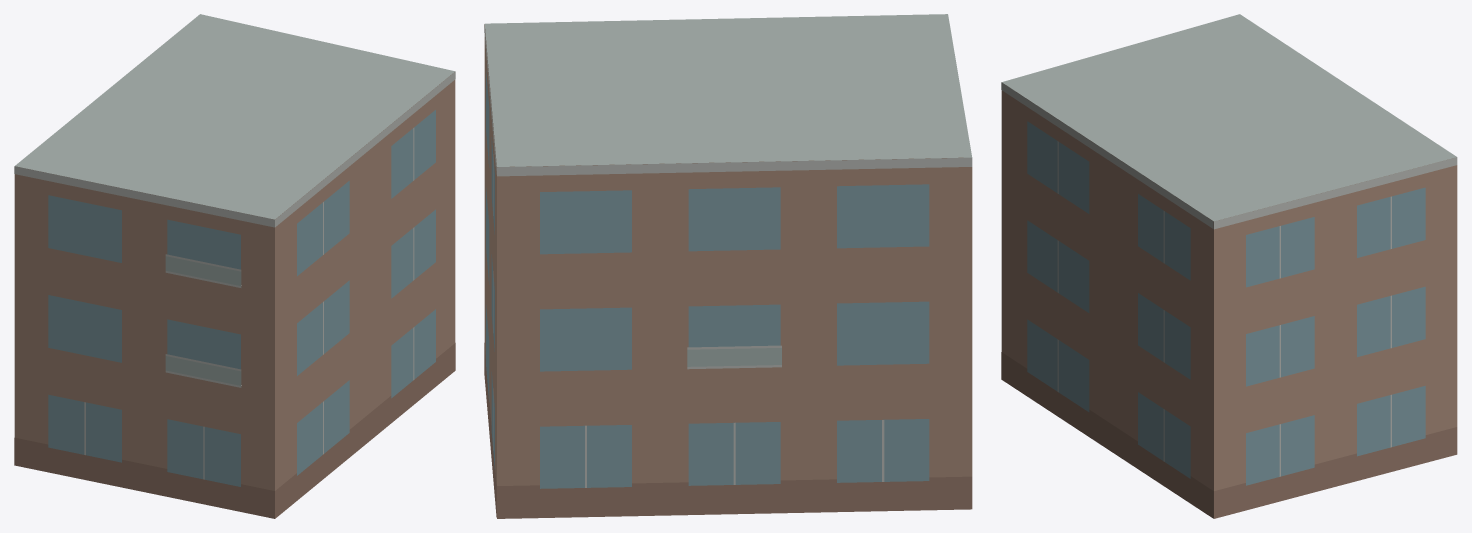
The model's file is survey-upis-32894387.glb.
3 views of the same model, side by side, from view 1: azimuth 30°, elevation 25°; view 2: azimuth 150°, elevation 25°; view 3: azimuth 270°, elevation 25° (orthographic). The views are drawn at different scales.
Parts seen in each view (by area): view 1: survey-upis-32894387.tmp; view 2: survey-upis-32894387.tmp; view 3: survey-upis-32894387.tmp.
Boxes of the visible parts, left/top/right/bottom form: survey-upis-32894387.tmp: left=14, top=14, right=455, bottom=518; survey-upis-32894387.tmp: left=484, top=14, right=972, bottom=518; survey-upis-32894387.tmp: left=1001, top=14, right=1457, bottom=518.
Bounding box in the file's own units: 13.7 × 9.15 × 12.72.
